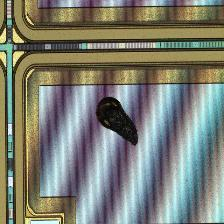PARTICLE: (95, 94, 143, 149)
